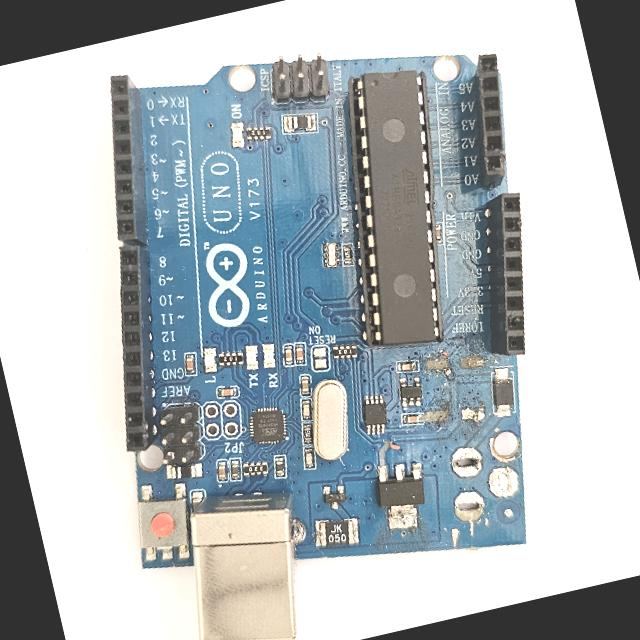missing_capacitors: (421, 345, 492, 438)
missing_eps: (444, 444, 505, 536)
